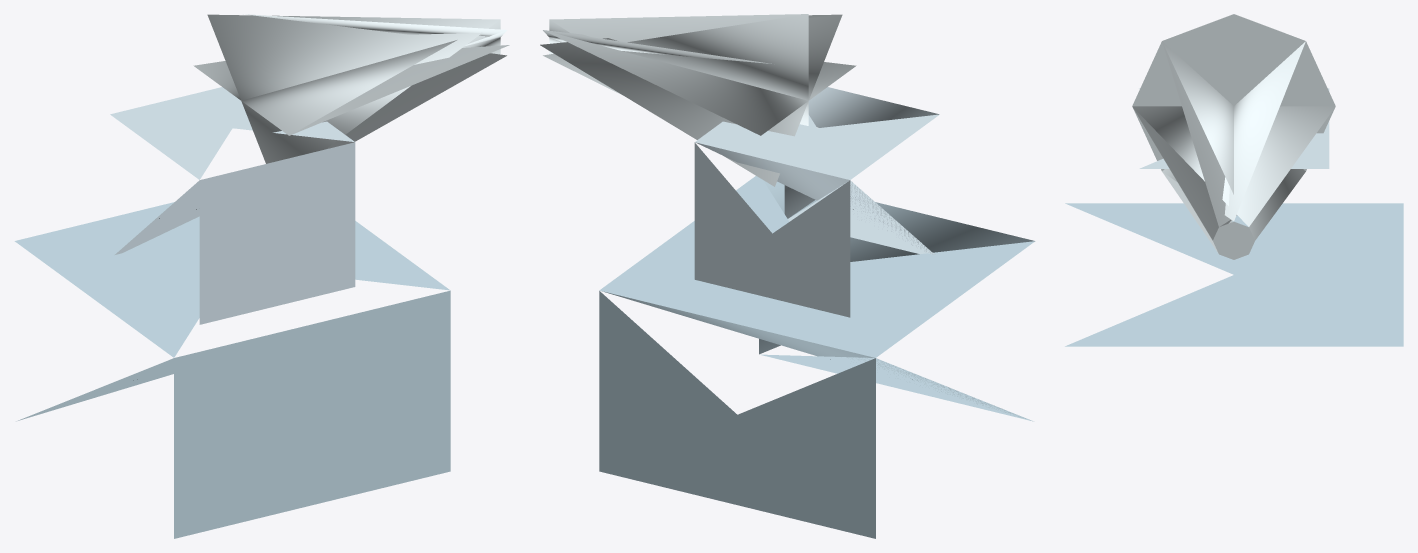
The model's file is tower_frost.glb.
The picture shows the model from 3 angles, left to right: view 1: azimuth 30°, elevation 25°; view 2: azimuth 150°, elevation 25°; view 3: azimuth 270°, elevation 25°; orthographic projection. The views are drawn at different scales.
Visible parts, largest first — view 1: body, barrel; view 2: body, barrel; view 3: body, barrel.
Boxes of the visible parts, bbox=[...] form: body: bbox=[14, 87, 450, 538]; barrel: bbox=[193, 14, 509, 163]; body: bbox=[599, 87, 1035, 538]; barrel: bbox=[540, 14, 856, 186]; body: bbox=[1065, 88, 1403, 346]; barrel: bbox=[1132, 14, 1335, 259].
Bounding box in the file's own units: 1.17 × 1.19 × 0.8.
